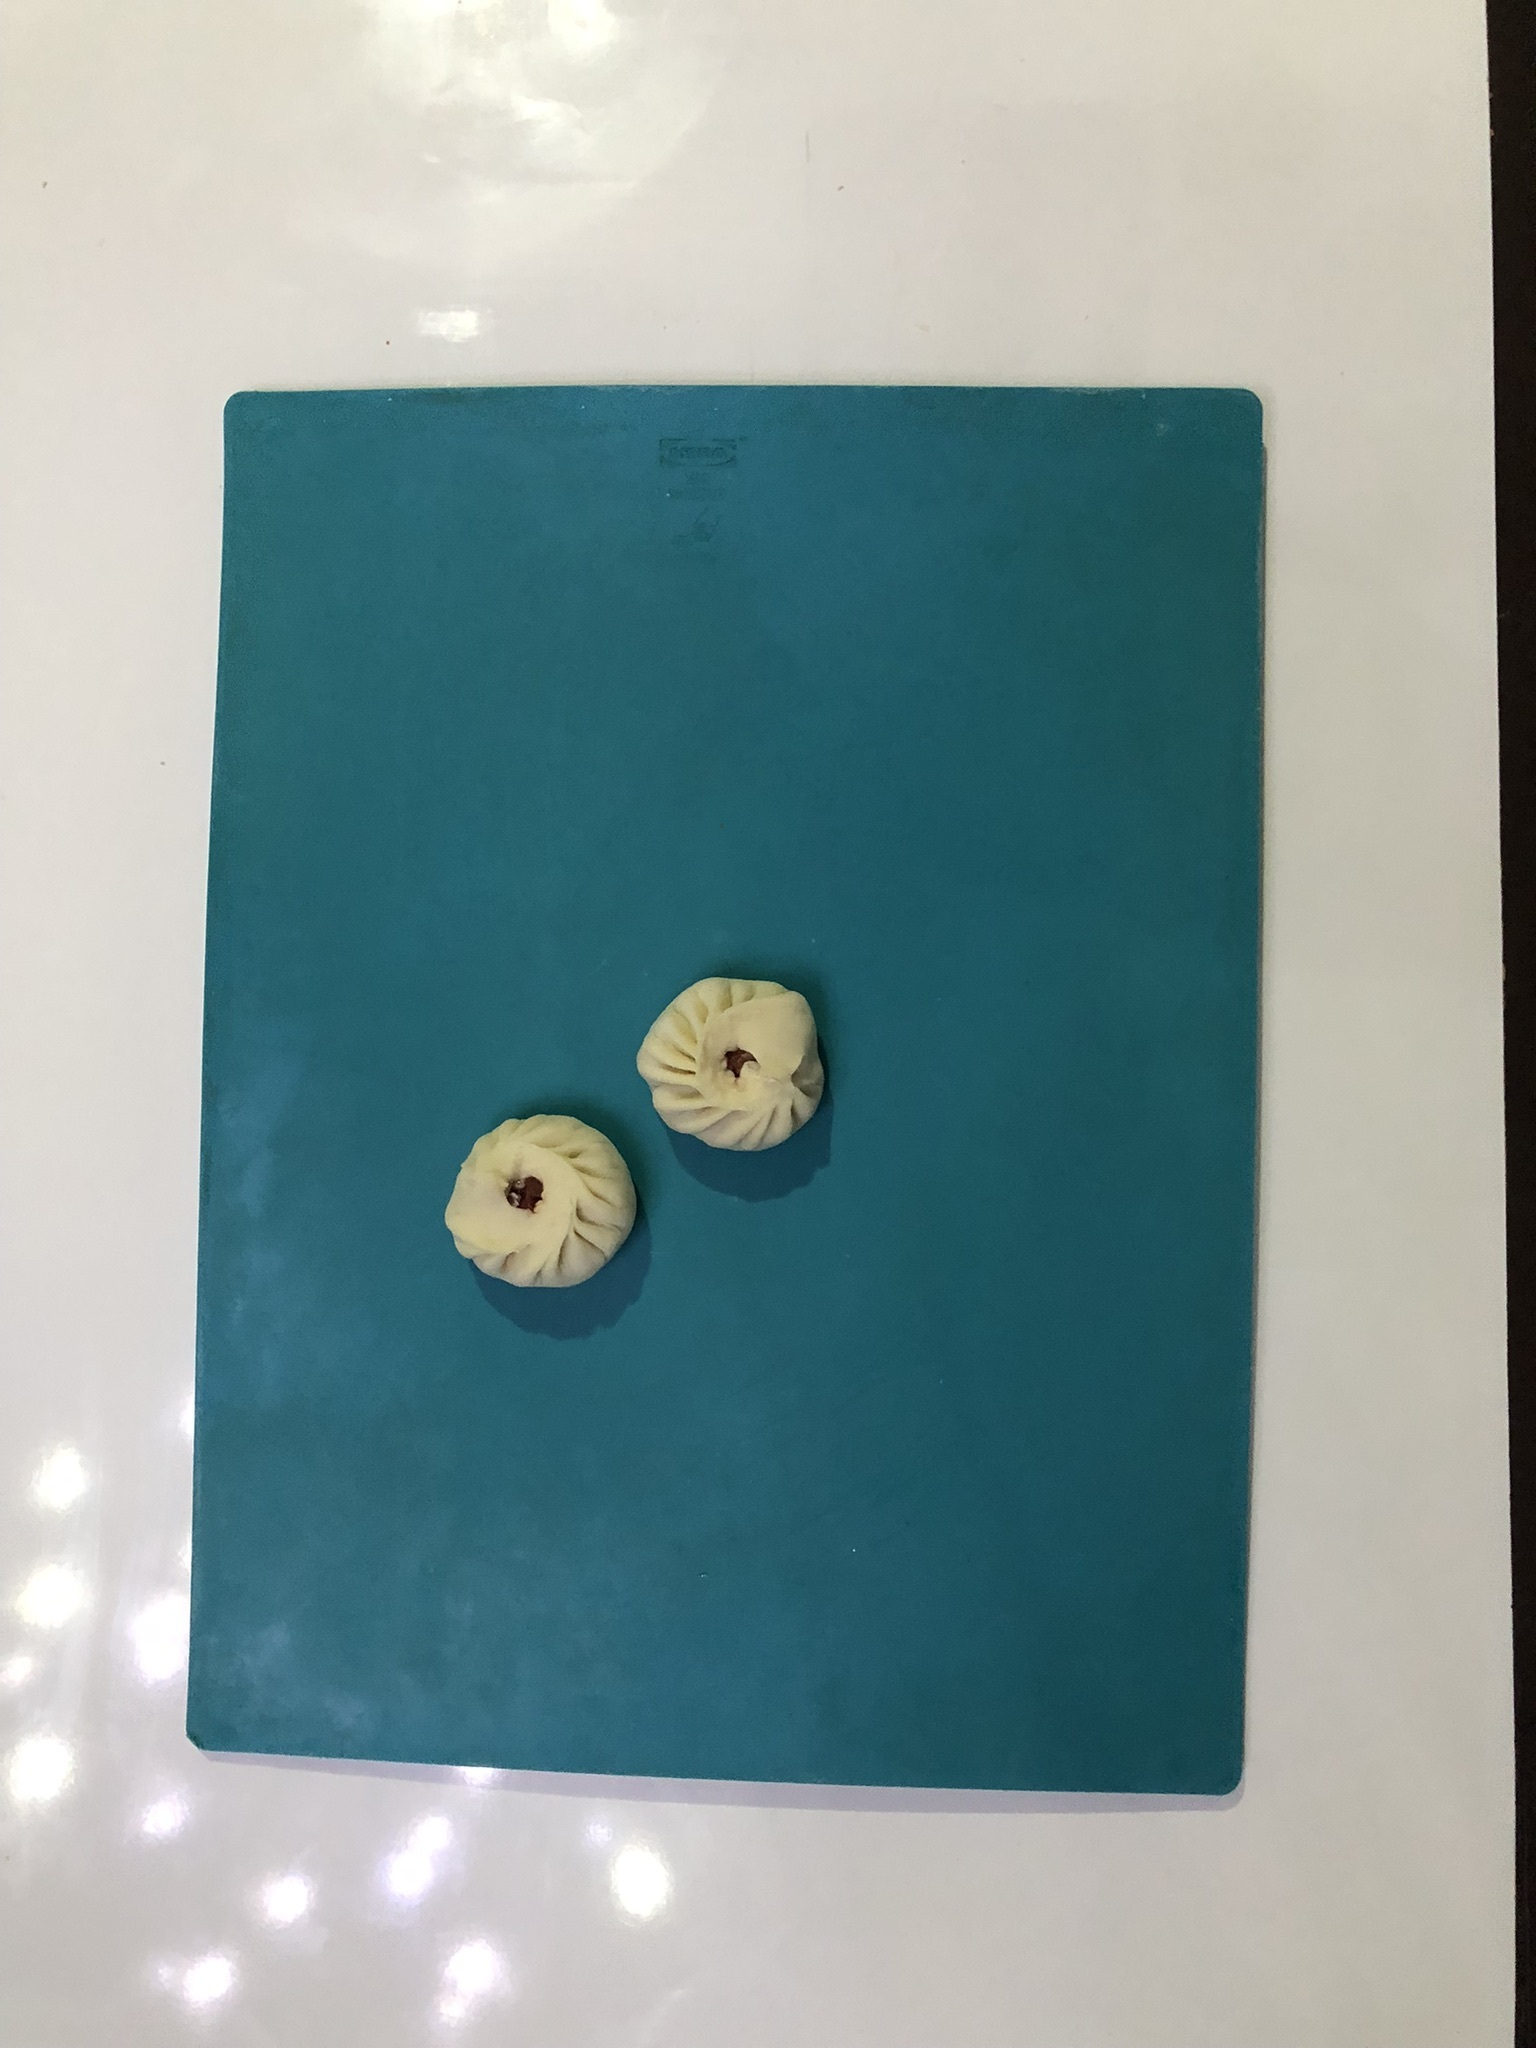buuz: (629, 955, 836, 1163), (439, 1106, 649, 1303)
